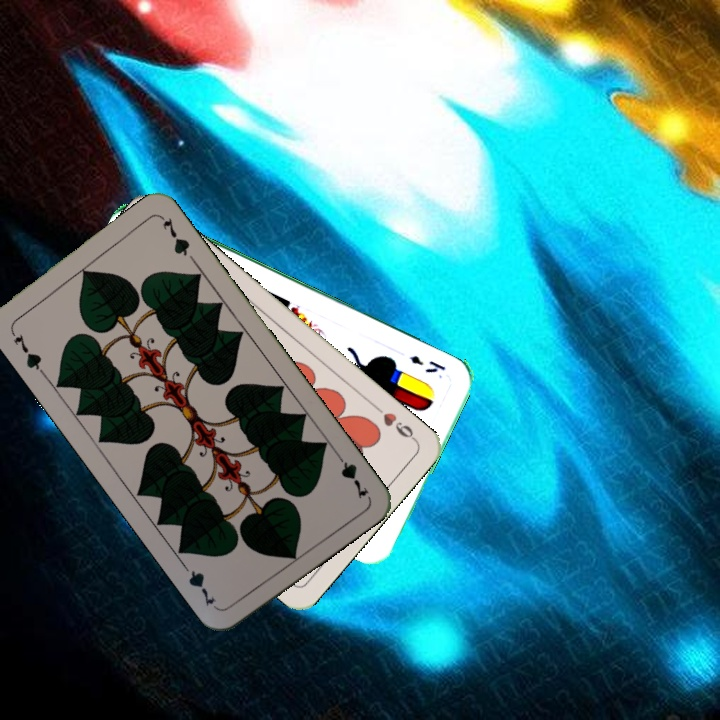EK: (406, 351, 449, 376)
G7: (330, 447, 371, 502), (6, 326, 47, 377)
H9: (370, 401, 419, 444)
